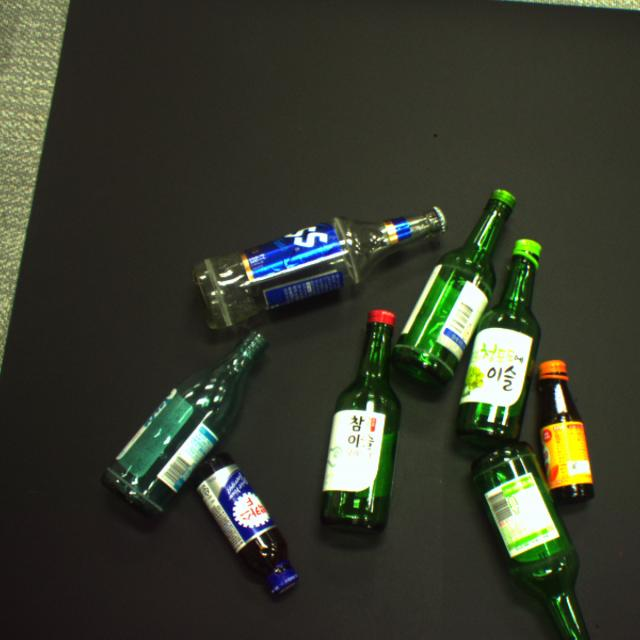beer-bottle: (191, 207, 447, 329)
soju-bottle: (103, 330, 269, 519), (391, 189, 517, 387), (473, 442, 590, 639), (455, 237, 543, 453), (320, 310, 402, 533)
